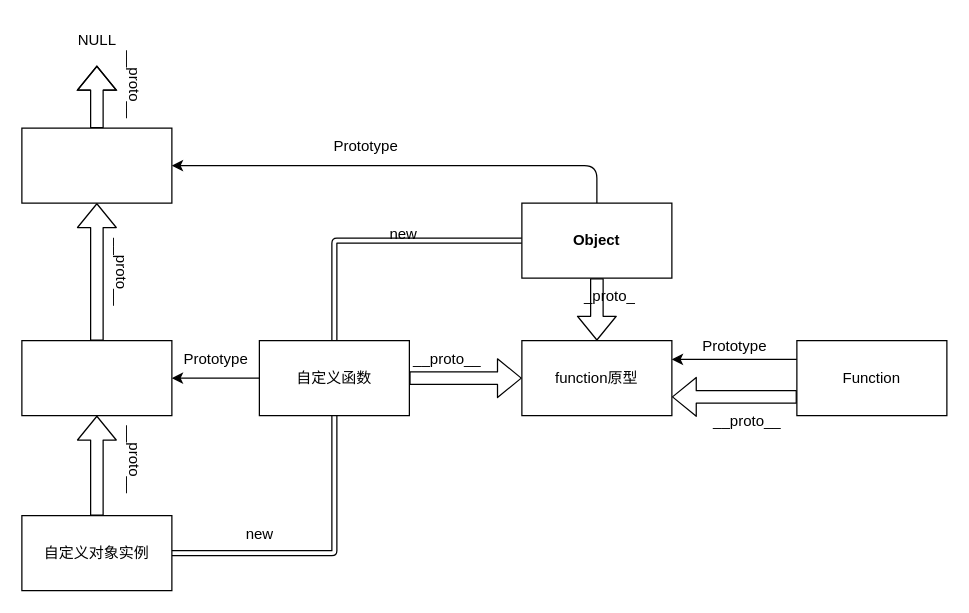
This 969x613 diagram has some shape labels left out. The shapes that lost their labels are listed below. From the top down, each one's centre as x and y in pixels, then its label:
(x=96, y=165): Object原型
(x=96, y=377): 自定义函数 原型
